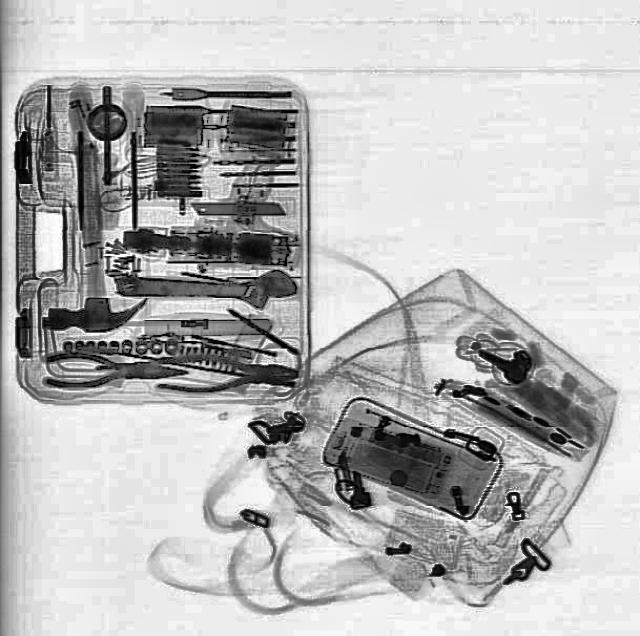Pliers: (154, 353, 298, 394), (44, 351, 184, 389)
Wrench: (116, 266, 298, 308)
